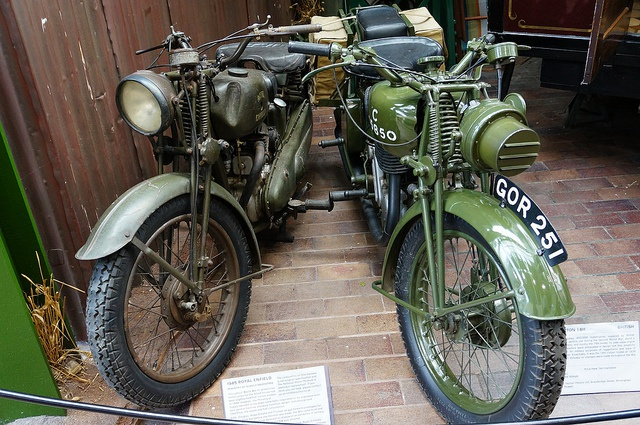non-vehicle: (289, 1, 572, 420), (81, 31, 334, 406)
